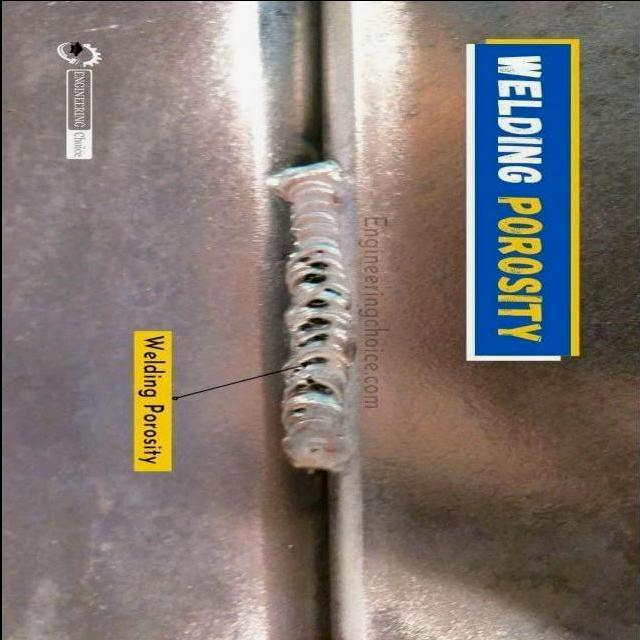defect: (293, 253, 342, 299), (288, 376, 336, 398), (288, 353, 330, 375), (296, 316, 330, 331), (295, 332, 328, 347), (301, 297, 330, 309), (286, 405, 307, 417), (313, 249, 323, 254)
